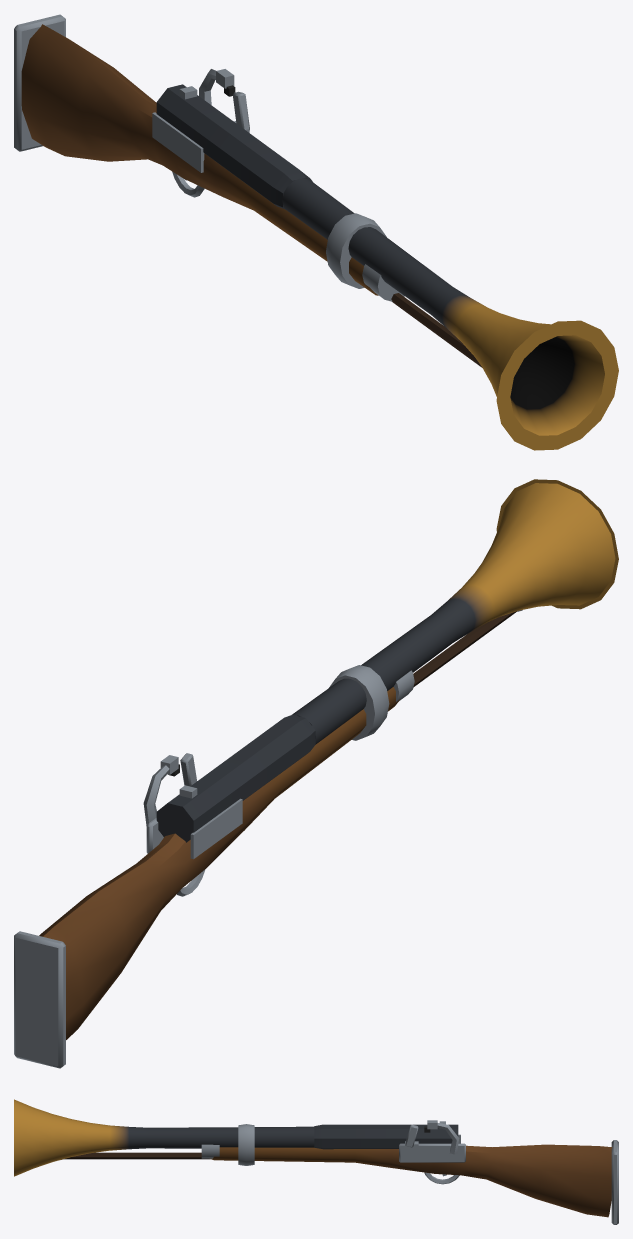
The model's file is weapon_musket_blunder_hi.glb.
3 views of the same model, one above another, from view 1: azimuth 30°, elevation 25°; view 2: azimuth 150°, elevation 25°; view 3: azimuth 270°, elevation 25° (orthographic). The views are drawn at different scales.
Visible parts, largest first — view 1: weapon_musket_blunder_hi; view 2: weapon_musket_blunder_hi; view 3: weapon_musket_blunder_hi.
Part boxes in pixels (<box>): weapon_musket_blunder_hi: <box>14,14,618,450</box>; weapon_musket_blunder_hi: <box>14,479,618,1068</box>; weapon_musket_blunder_hi: <box>14,1099,618,1224</box>.
Size of the model in its own units: 0.159 by 0.252 by 1.17.
